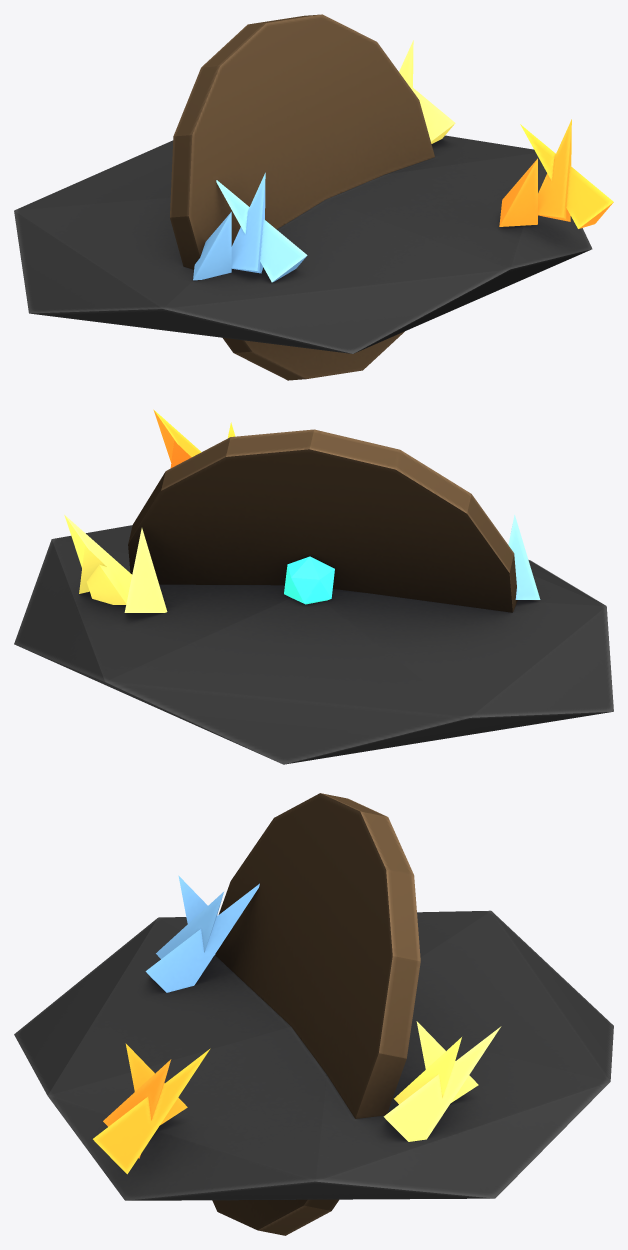
Rendered from sign_colossus_shards.glb.
3 views of the same model, one above another, from view 1: azimuth 30°, elevation 25°; view 2: azimuth 150°, elevation 25°; view 3: azimuth 270°, elevation 25° (orthographic). The views are drawn at different scales.
Parts seen in each view (by area): view 1: sign_colossus_shards; view 2: sign_colossus_shards; view 3: sign_colossus_shards.
Boxes of the visible parts, x1,y1,x2,y2 form: sign_colossus_shards: (14,14,613,380); sign_colossus_shards: (14,409,613,764); sign_colossus_shards: (14,793,613,1235).
Size of the model in its own units: 1.37 by 0.8099 by 1.13.
Materials: 1 (1 with a texture image).
